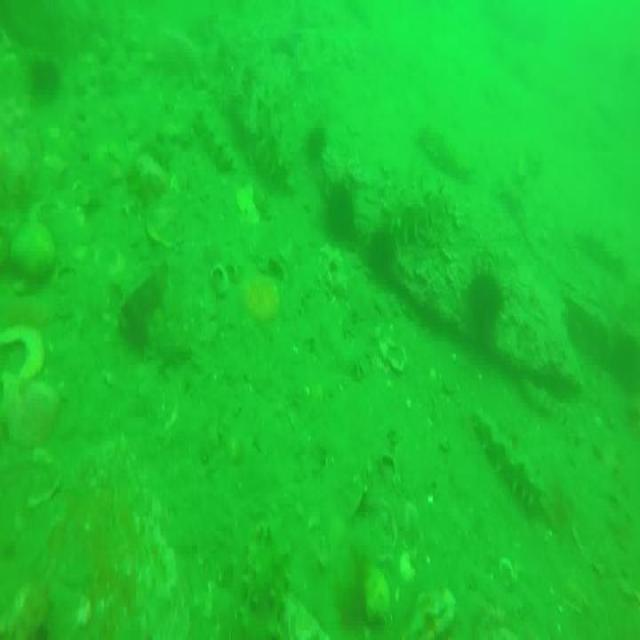echinus: (467, 269, 509, 343), (21, 49, 59, 104), (326, 178, 356, 244), (367, 215, 395, 273), (302, 121, 326, 162)
holothurian: (476, 409, 544, 522), (244, 521, 292, 640), (254, 75, 292, 186), (389, 185, 455, 245), (417, 120, 471, 179), (576, 220, 628, 278), (194, 106, 233, 169)
scallop: (10, 218, 50, 278), (364, 569, 399, 621), (145, 201, 179, 253), (380, 334, 404, 376), (498, 559, 514, 585)
